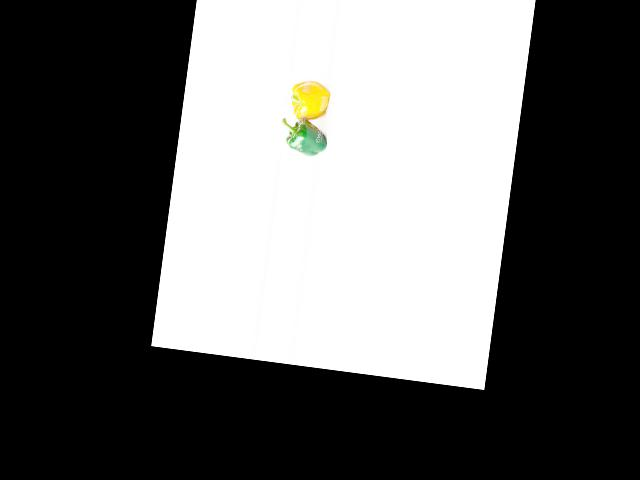bell_pepper: (281, 117, 335, 162)
